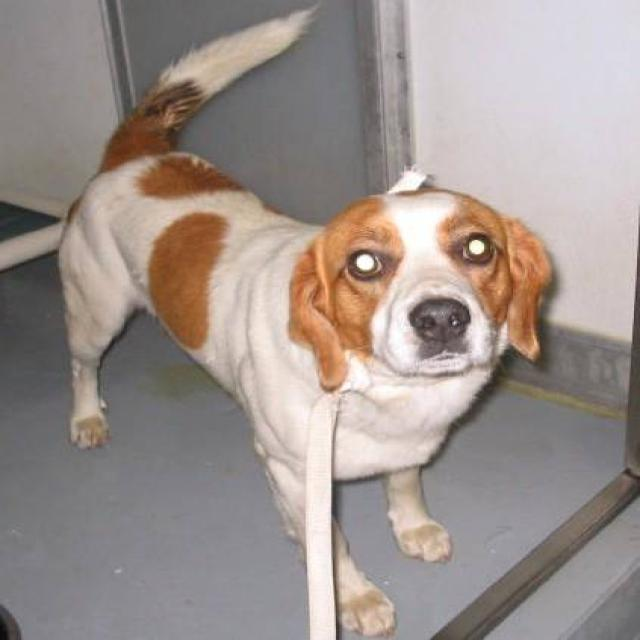Dog: (292, 185, 553, 388)
